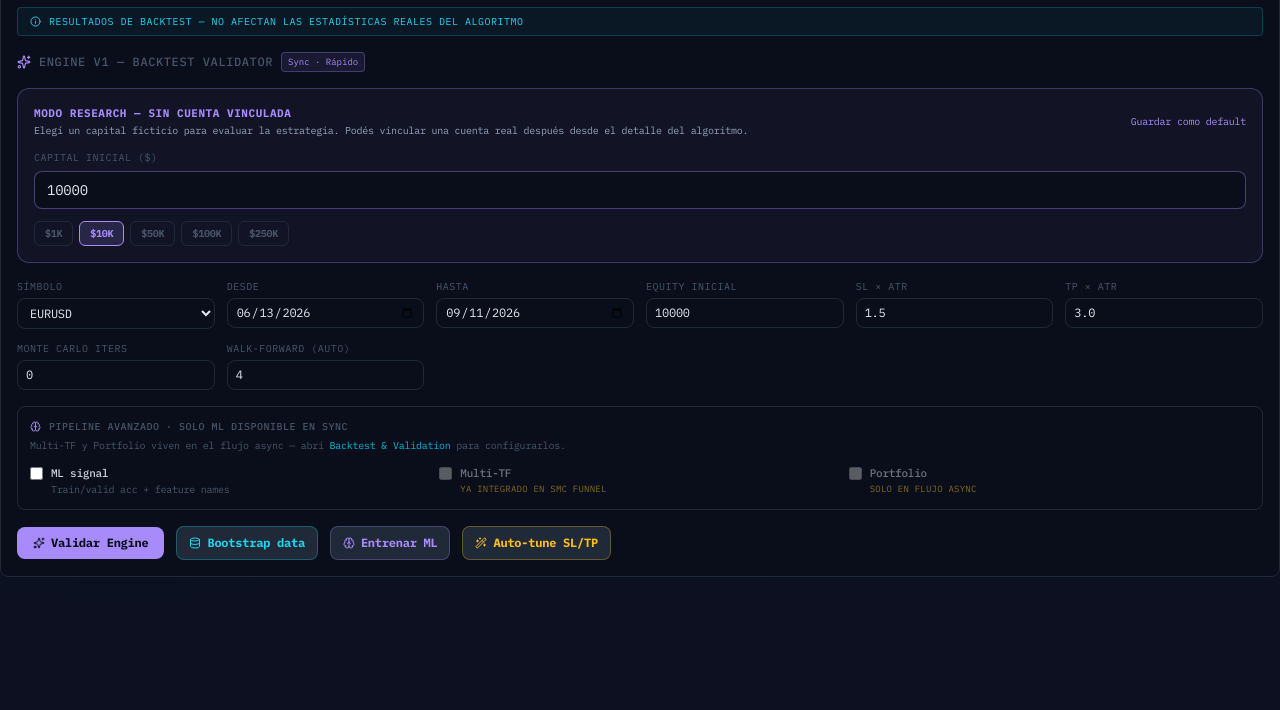
Scenario: EngineBacktestPanel — Auto-tune SL/TP (Mejora #6) › renders top 5 trials in the table sorted by Sharpe desc
What coordinates should you click on to do the following:
click the button with test id "auto-tune-button"
I would click on:
 (537, 542)
Its box is [462, 526, 611, 560].
(page scrolled)
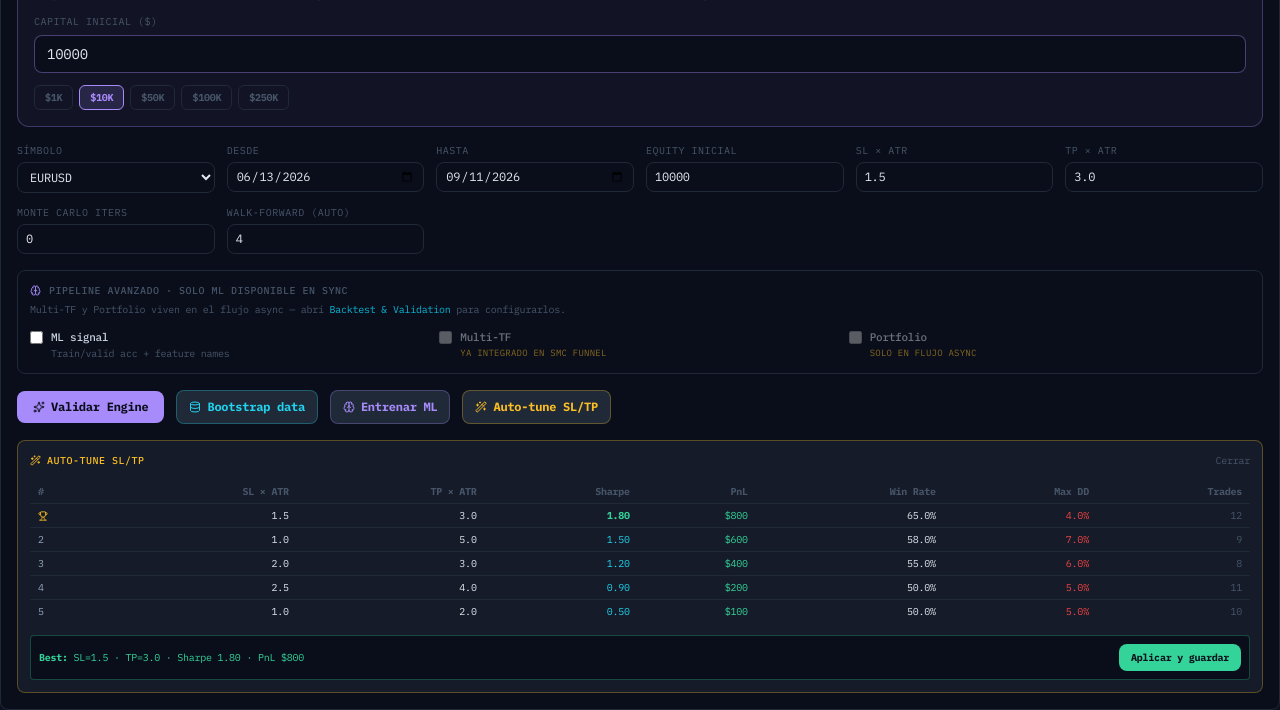
expect the element with test id "auto-tune-results" is shown: met, box [17, 440, 1263, 692]
expect the text "Best: SL=1.5 · TP=3.0 · Sharpe 1.80 · PnL $800" is shown: met, box [39, 650, 304, 664]
expect the text "0.90" is shown: met, box [485, 575, 638, 599]
